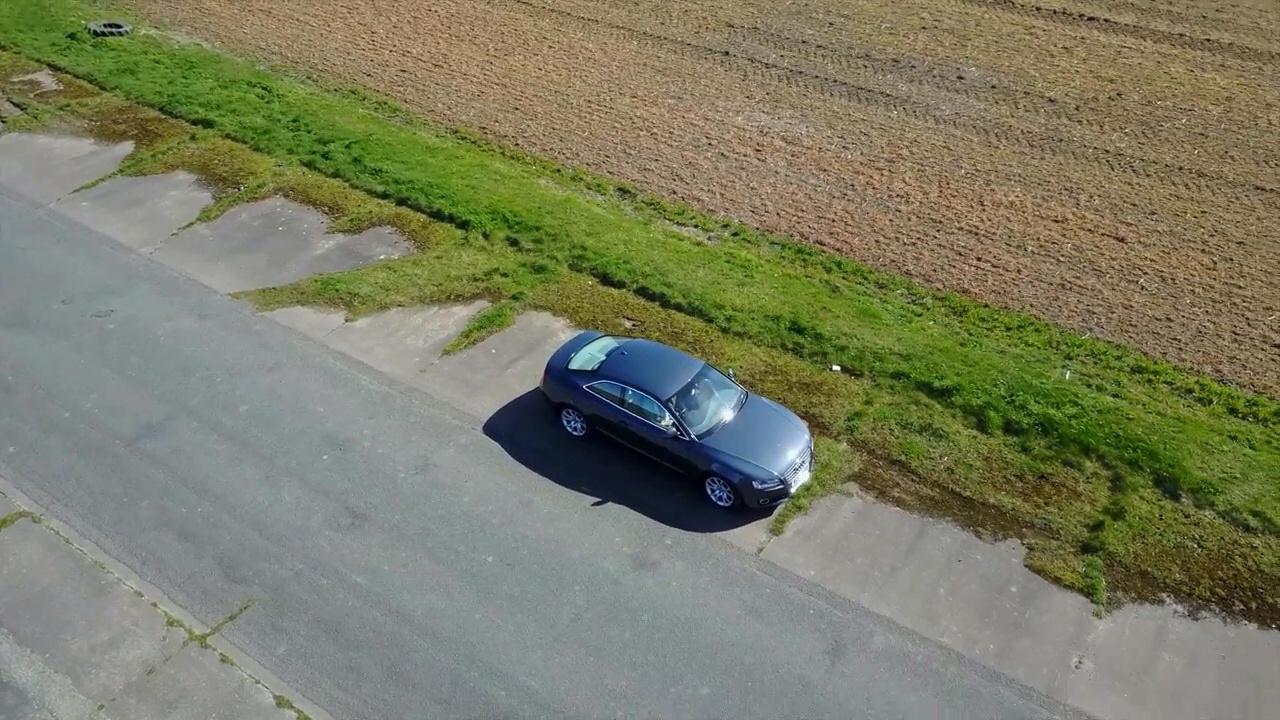araba: (542, 317, 815, 512)
